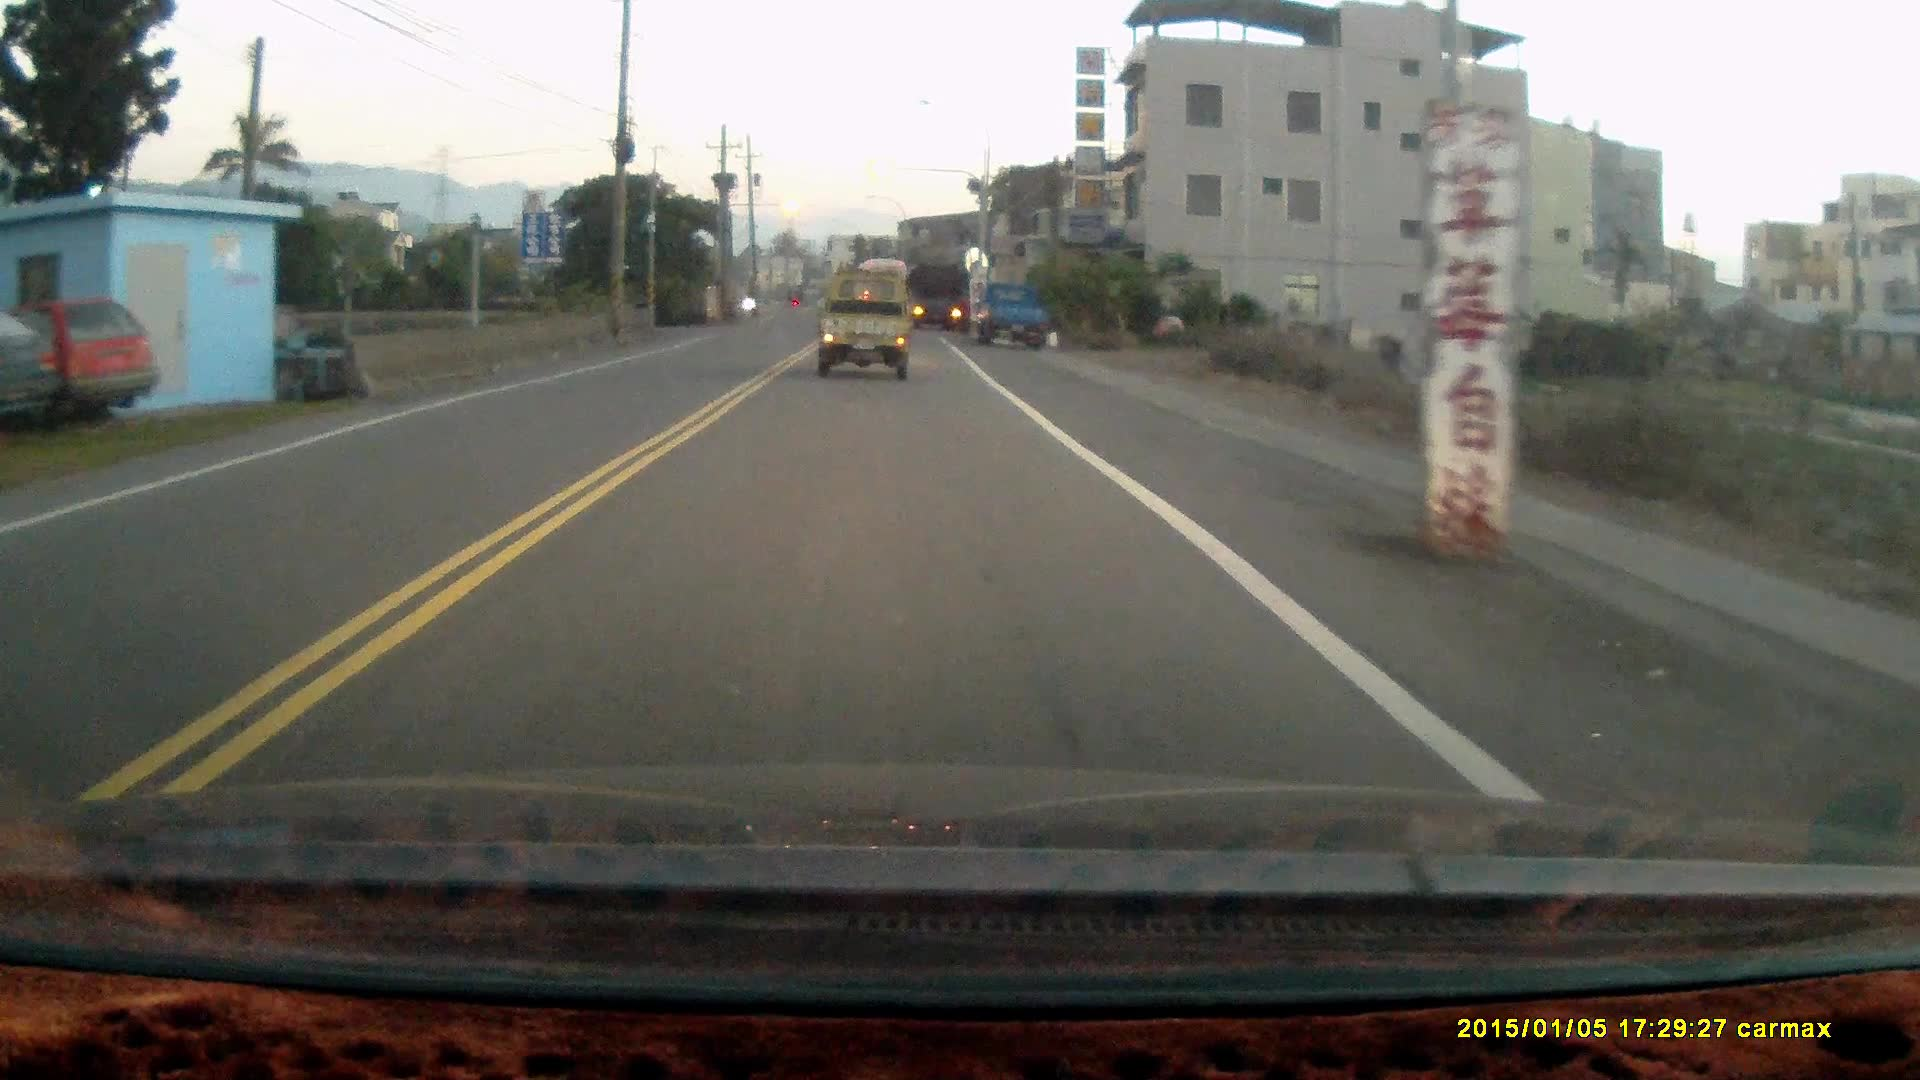vehicle: (5, 301, 157, 430), (815, 276, 916, 380), (1, 303, 55, 438), (971, 284, 1058, 356), (907, 261, 972, 327)
